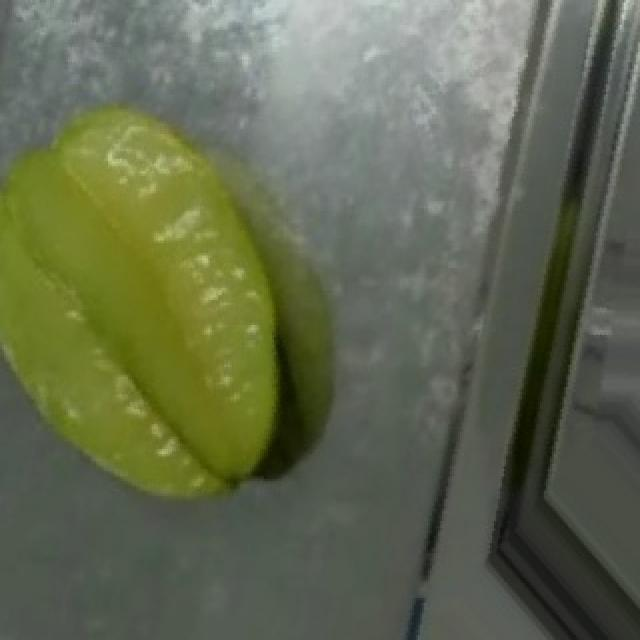fruit: (10, 77, 366, 513), (516, 367, 640, 640)
